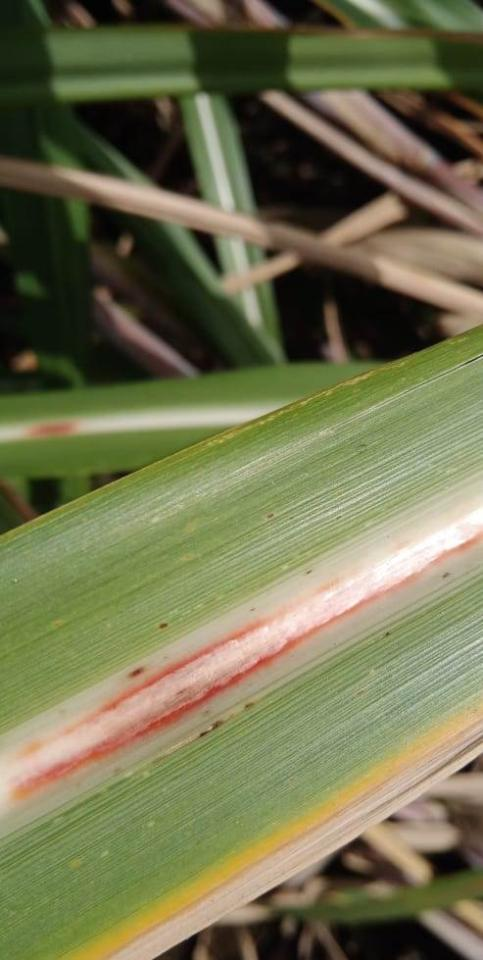RedRot: (8, 505, 482, 810), (24, 421, 78, 439)
